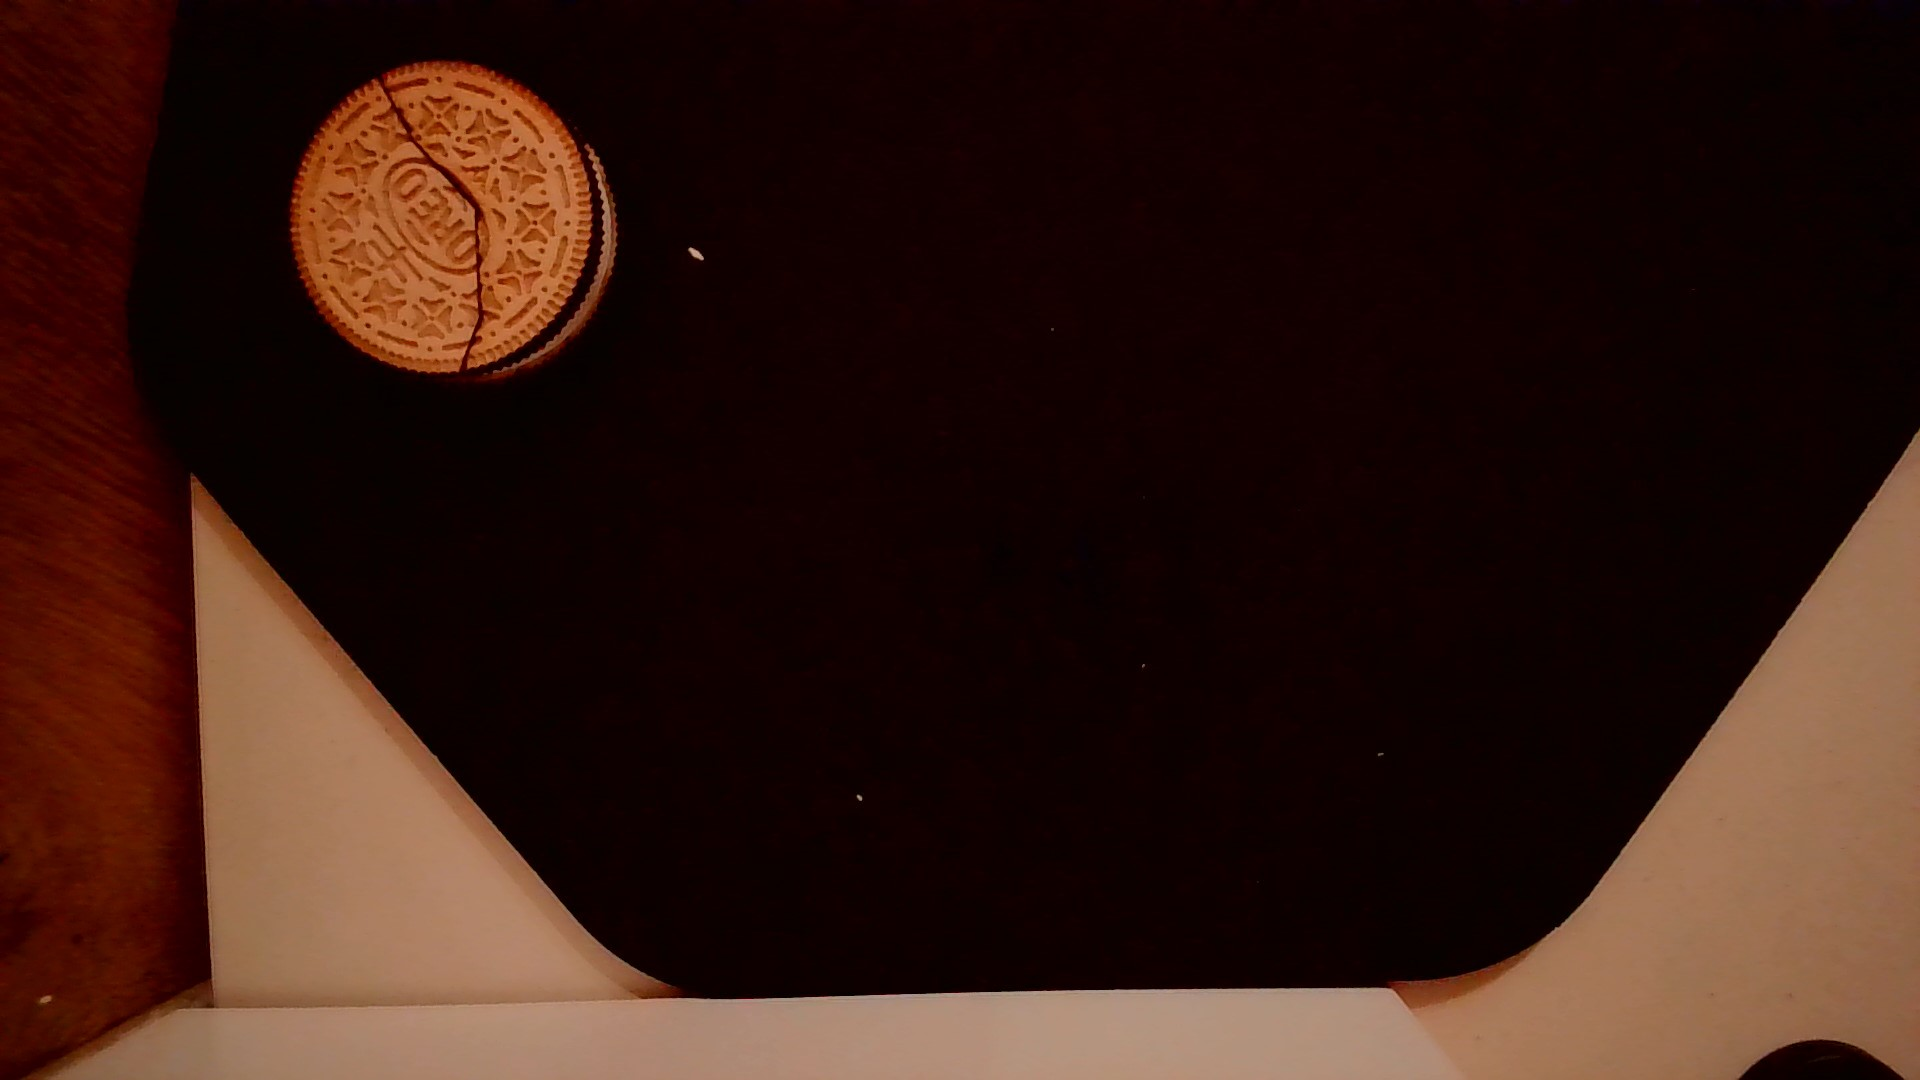Fissure: (371, 71, 493, 382)
Oréo: (280, 49, 624, 392)
